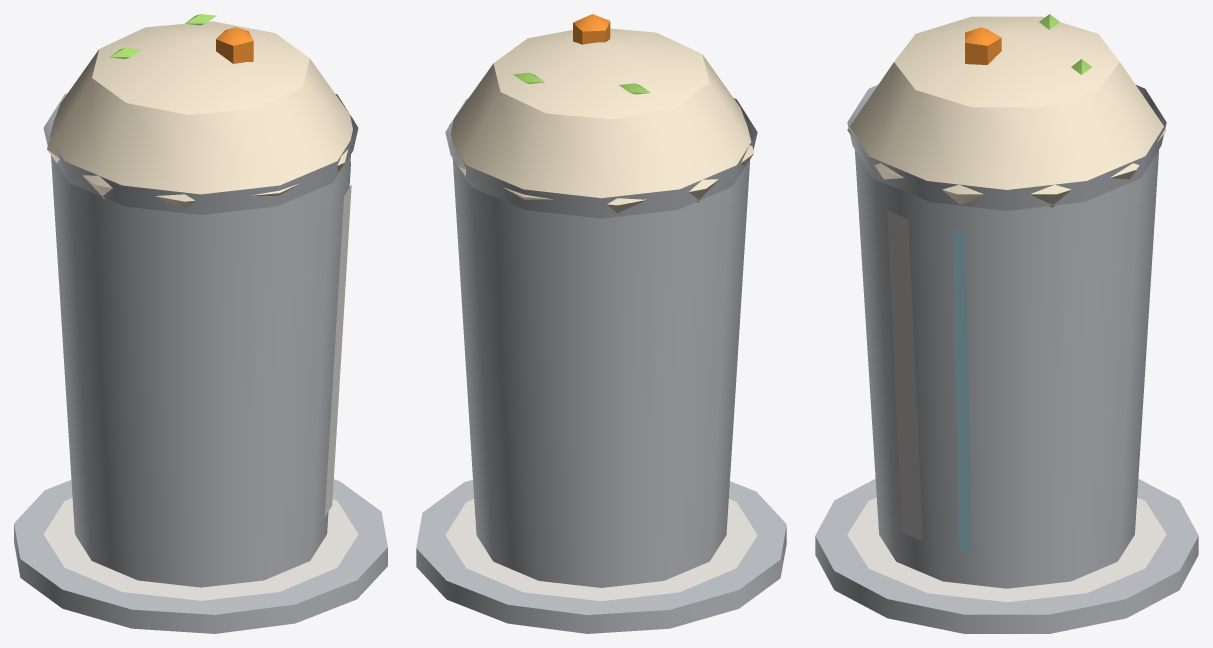
Rendered from pass_patiala.glb.
3 renders of one model, left to right at view 1: azimuth 30°, elevation 25°; view 2: azimuth 150°, elevation 25°; view 3: azimuth 270°, elevation 25°, orthographic. The views are drawn at different scales.
Visible parts, largest first — view 1: pass_patiala; view 2: pass_patiala; view 3: pass_patiala.
Part boxes in pixels (box(x1,y1,x2,y2)): pass_patiala: box(14, 14, 387, 633); pass_patiala: box(416, 14, 786, 633); pass_patiala: box(815, 14, 1198, 633).
Size of the model in its own units: 0.1755 by 0.279 by 0.18.
1 material, 1 textured.
